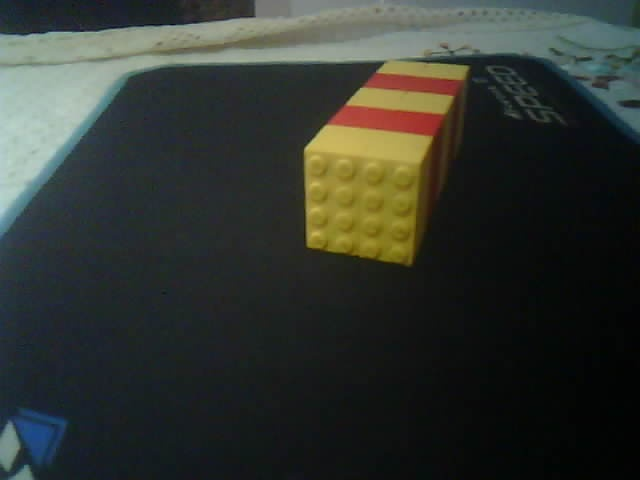lego: (302, 58, 470, 269)
